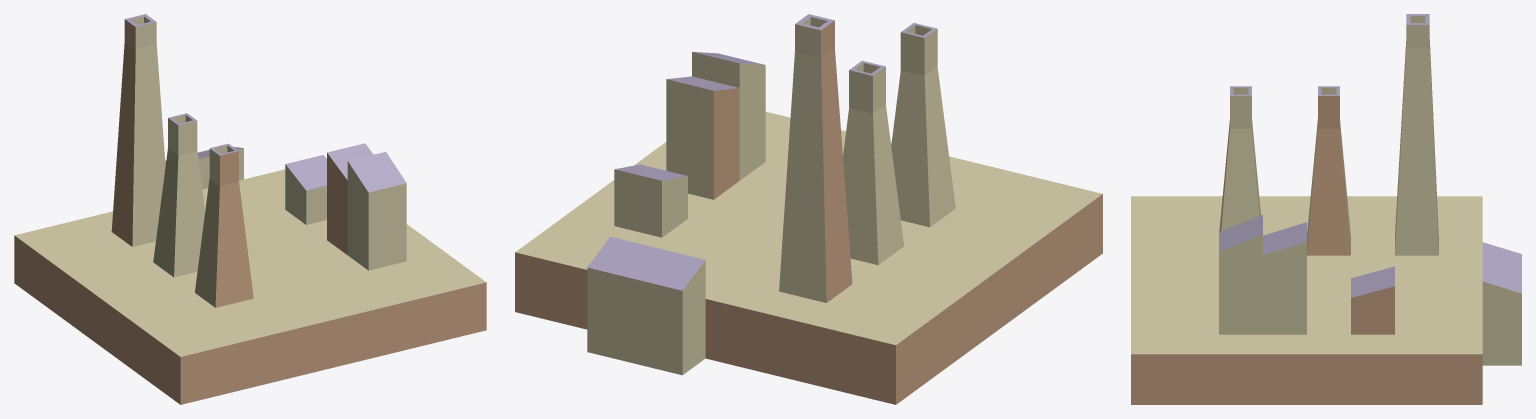
The model's file is recycling_factory.glb.
3 renders of one model, left to right at view 1: azimuth 30°, elevation 25°; view 2: azimuth 150°, elevation 25°; view 3: azimuth 270°, elevation 25°, orthographic. The views are drawn at different scales.
Visible parts, largest first — view 1: Cube.015; view 2: Cube.015; view 3: Cube.015.
Part boxes in pixels (left/top/right/bottom): Cube.015: left=14, top=14, right=486, bottom=404; Cube.015: left=515, top=14, right=1102, bottom=404; Cube.015: left=1131, top=14, right=1521, bottom=404.
Size of the model in its own units: 1.58 by 1.29 by 1.65.
